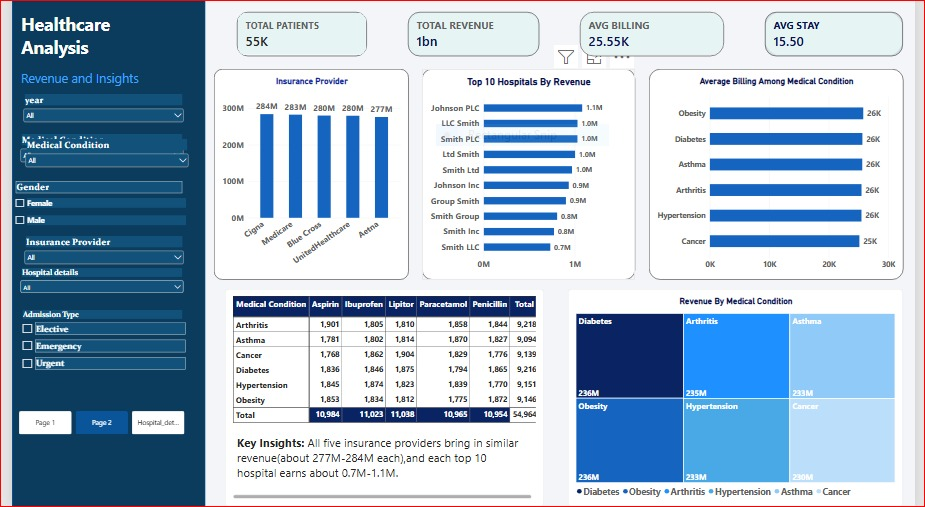

What the dashboard file says about the page in this screenshot:
{"tool":"powerbi","page":{"name":"Page 2","canvas":[1920,1080],"ordinal":1},"visuals":[{"type":"clusteredColumnChart","title":"Insurance Provider","fields":{"Category":["healthcare_dataset.Insurance Provider"],"Y":["healthcare_dataset.total_revenue"]},"box":[429.1,148,414,448.4],"z":0},{"type":"slicer","fields":{"Values":["healthcare_dataset.Gender"]},"box":[0,387.1,369.9,112.7],"z":0,"group":"g1"},{"type":"clusteredBarChart","title":"Top 10 Hospitals By Revenue","fields":{"Category":["healthcare_dataset.Hospital"],"Y":["healthcare_dataset.total_revenue"]},"box":[872,148,452.6,448.4],"z":1000},{"type":"slicer","fields":{"Values":["healthcare_dataset.Insurance Provider"]},"box":[21.3,503.9,348.7,63.8],"z":1000,"group":"g1"},{"type":"clusteredBarChart","title":"Average Billing Among Medical Condition","fields":{"Category":["healthcare_dataset.Medical Condition"],"Y":["healthcare_dataset.avg_billing"]},"box":[1353.7,148,540.6,448.4],"z":2000},{"type":"slicer","fields":{"Values":["healthcare_dataset.Hospital"]},"box":[12.8,571.9,357.2,87.2],"z":2000,"group":"g1"},{"type":"treemap","title":"Revenue By Medical Condition ","fields":{"Group":["healthcare_dataset.Medical Condition"],"Values":["healthcare_dataset.total_revenue"]},"box":[1182,615.7,712.2,463.4],"z":3000},{"type":"slicer","fields":{"Values":["healthcare_dataset.Admission Type"]},"box":[14.9,661.2,355,142.4],"z":3000,"group":"g1"},{"type":"pivotTable","fields":{"Columns":["healthcare_dataset.Medication"],"Rows":["healthcare_dataset.Medical Condition"],"Values":["healthcare_dataset.Total_patients"]},"box":[452.6,615.7,677.9,463.4],"z":4000},{"type":"shape","box":[0,0,411.1,1080.6],"z":5000},{"type":"textbox","box":[20.2,27.7,370.4,138.6],"z":6000},{"type":"textbox","box":[20.2,148.7,370.4,73.1],"z":7000},{"type":"slicer","fields":{"Values":["calender.year"]},"box":[19.1,202,350.8,72.3],"z":8000},{"type":"slicer","fields":{"Values":["healthcare_dataset.Medical Condition"]},"box":[12.8,287,357.2,61.7],"z":9000},{"type":"group","id":"g1","title":"Group 1","box":[0,387.1,369.9,416.5],"z":10000},{"type":"pageNavigator","box":[15.1,876.9,352.8,50.4],"z":11000},{"type":"cardVisual","fields":{"Data":["healthcare_dataset.Total_patients"]},"box":[478.4,27.9,276.4,93.5],"z":12000},{"type":"cardVisual","title":"TOTAL PATIENTS","fields":{"Data":["healthcare_dataset.total_revenue"]},"box":[841.7,27.9,278.5,93.5],"z":13000},{"type":"cardVisual","title":"AVG BILLING","fields":{"Data":["healthcare_dataset.avg_billing"]},"box":[1207.2,27.9,306.1,93.5],"z":14000},{"type":"cardVisual","title":"AVG_STAYS","fields":{"Data":["healthcare_dataset.avg_lengthstay"]},"box":[1600.4,27.9,293.4,93.5],"z":15000},{"type":"textbox","box":[478.3,926.9,620.8,97.8],"z":16000},{"type":"slicer","fields":{"Values":["healthcare_dataset.Medical Condition"]},"box":[22.8,297,357.2,61.7],"z":17000}]}

Visuals, with their boxes in screenshot pixels (x1, y1, x2, y2), scaled from the page's 1920x1080 canvas onto the 925x507 screenshot:
"Insurance Provider" clusteredColumnChart: BBox(207, 69, 406, 280)
slicer - healthcare_dataset.Gender: BBox(0, 182, 178, 235)
"Top 10 Hospitals By Revenue" clusteredBarChart: BBox(420, 69, 638, 280)
slicer - healthcare_dataset.Insurance Provider: BBox(10, 237, 178, 267)
"Average Billing Among Medical Condition" clusteredBarChart: BBox(652, 69, 913, 280)
slicer - healthcare_dataset.Hospital: BBox(6, 268, 178, 309)
"Revenue By Medical Condition " treemap: BBox(569, 289, 913, 506)
slicer - healthcare_dataset.Admission Type: BBox(7, 310, 178, 377)
pivotTable - healthcare_dataset.Medication x healthcare_dataset.Medical Condition: BBox(218, 289, 545, 506)
shape: BBox(0, 0, 198, 506)
textbox: BBox(10, 13, 188, 78)
textbox: BBox(10, 70, 188, 104)
slicer - calender.year: BBox(9, 95, 178, 129)
slicer - healthcare_dataset.Medical Condition: BBox(6, 135, 178, 164)
"Group 1" group: BBox(0, 182, 178, 377)
pageNavigator: BBox(7, 412, 177, 435)
cardVisual - healthcare_dataset.Total_patients: BBox(230, 13, 364, 57)
"TOTAL PATIENTS" cardVisual: BBox(406, 13, 540, 57)
"AVG BILLING" cardVisual: BBox(582, 13, 729, 57)
"AVG_STAYS" cardVisual: BBox(771, 13, 912, 57)
textbox: BBox(230, 435, 530, 481)
slicer - healthcare_dataset.Medical Condition: BBox(11, 139, 183, 168)
